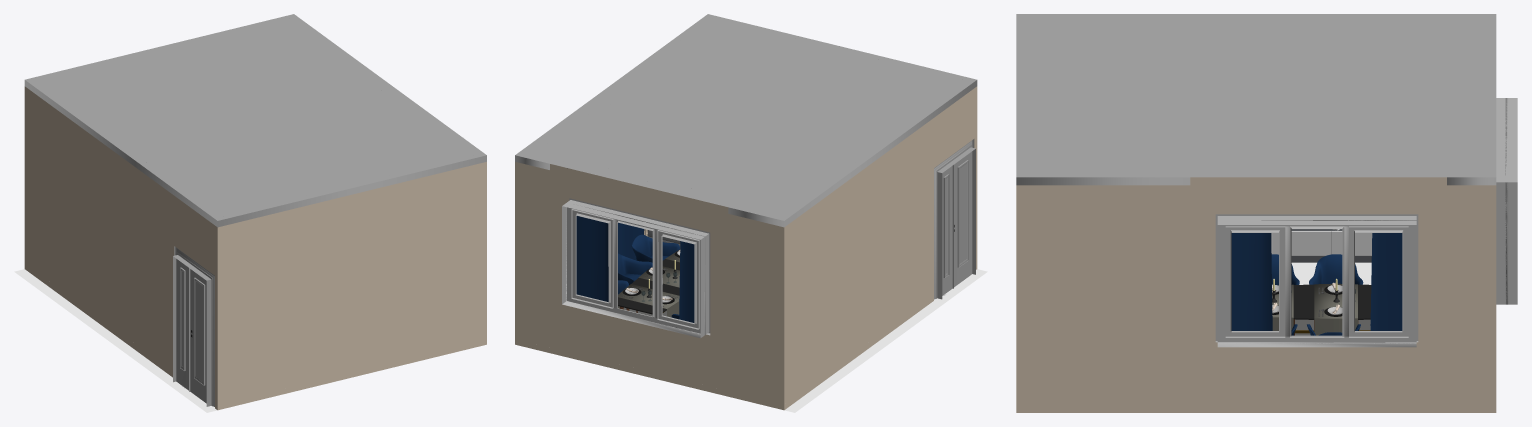
3 renders of one model, left to right at view 1: azimuth 30°, elevation 25°; view 2: azimuth 150°, elevation 25°; view 3: azimuth 270°, elevation 25°, orthographic. The views are drawn at different scales.
Visible parts, largest first — view 1: Exterior_Wall, Exterior_Ceiling, Furniture_Door, Furniture, Exterior_Floor; view 2: Exterior_Wall, Exterior_Ceiling, Furniture, Furniture_Door, Interior_CurtainCarpet, Interior_Table, Exterior_Floor, Interior_Dishes; view 3: Exterior_Wall, Exterior_Ceiling, Furniture, Interior_CurtainCarpet, Interior_Table, Interior_TV_Shelf, Exterior_Floor, Interior_Dishes.
Part boxes in pixels (left/top/right/bottom): Exterior_Wall: left=24, top=86, right=486, bottom=410; Exterior_Ceiling: left=25, top=14, right=486, bottom=220; Furniture_Door: left=173, top=246, right=214, bottom=406; Furniture: left=24, top=80, right=486, bottom=337; Exterior_Floor: left=14, top=269, right=217, bottom=412; Exterior_Wall: left=515, top=86, right=977, bottom=410; Exterior_Ceiling: left=515, top=14, right=976, bottom=220; Furniture: left=515, top=80, right=977, bottom=338; Furniture_Door: left=934, top=139, right=975, bottom=299; Interior_CurtainCarpet: left=576, top=216, right=694, bottom=322; Interior_Table: left=618, top=234, right=679, bottom=319; Exterior_Floor: left=784, top=269, right=987, bottom=412; Interior_Dishes: left=621, top=250, right=680, bottom=306; Exterior_Wall: left=1016, top=177, right=1496, bottom=412; Exterior_Ceiling: left=1016, top=14, right=1496, bottom=177; Furniture: left=1016, top=98, right=1517, bottom=347; Interior_CurtainCarpet: left=1231, top=233, right=1402, bottom=335; Interior_Table: left=1271, top=254, right=1371, bottom=335; Interior_TV_Shelf: left=1271, top=229, right=1372, bottom=262; Exterior_Floor: left=1291, top=262, right=1371, bottom=284; Interior_Dishes: left=1272, top=278, right=1342, bottom=316.
Bounding box in the file's own units: 4.89 × 3 × 5.79.
